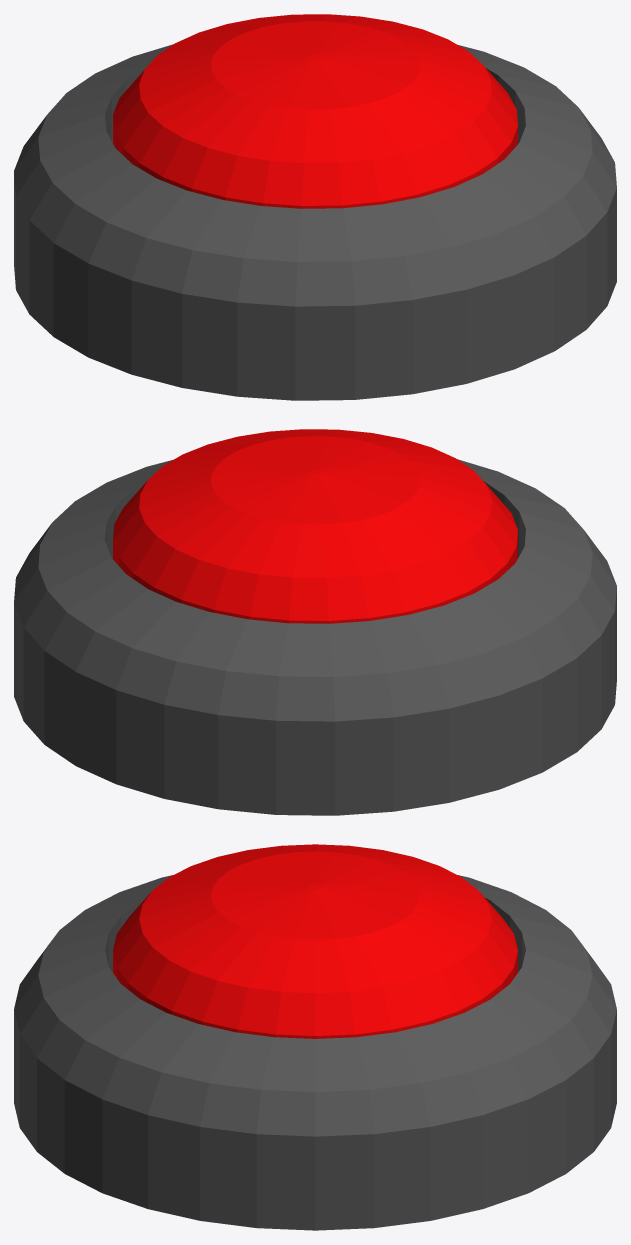
File: Button.fbx
3 views of the same model, one above another, from view 1: azimuth 30°, elevation 25°; view 2: azimuth 150°, elevation 25°; view 3: azimuth 270°, elevation 25° (orthographic).
Parts seen in each view (by area): view 1: Cylinder, Cylinder.001; view 2: Cylinder, Cylinder.001; view 3: Cylinder, Cylinder.001.
Part boxes in pixels (x1=…): Cylinder: x1=14, y1=44, x2=616, y2=400; Cylinder.001: x1=113, y1=14, x2=517, y2=208; Cylinder: x1=14, y1=459, x2=616, y2=815; Cylinder.001: x1=113, y1=429, x2=517, y2=623; Cylinder: x1=14, y1=875, x2=616, y2=1230; Cylinder.001: x1=113, y1=844, x2=517, y2=1038.
Size of the model in its own units: 100 by 39.53 by 100.
